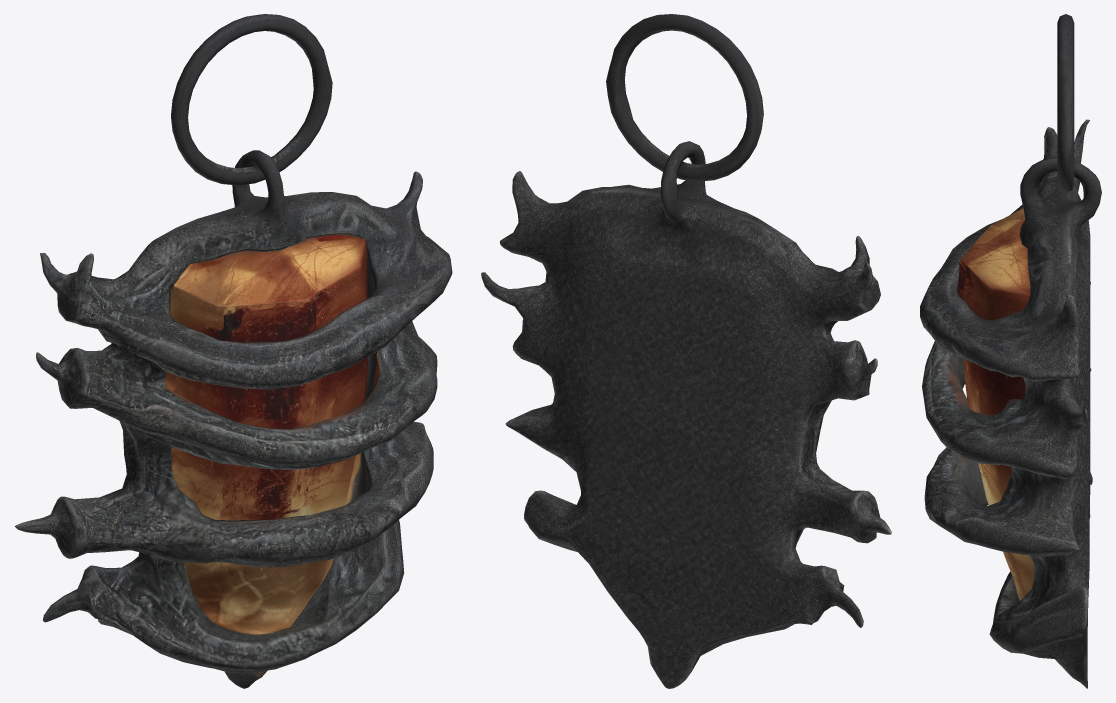
Rendered from amber_amulet.glb.
The picture shows the model from 3 angles, left to right: view 1: azimuth 30°, elevation 25°; view 2: azimuth 150°, elevation 25°; view 3: azimuth 270°, elevation 25°; orthographic projection. The views are drawn at different scales.
Visible parts, largest first — view 1: Soulbound_Amber_Amulet; view 2: Soulbound_Amber_Amulet; view 3: Soulbound_Amber_Amulet.
Part boxes in pixels (x1,y1,x2,y2): Soulbound_Amber_Amulet: [15, 14, 452, 688]; Soulbound_Amber_Amulet: [481, 14, 891, 688]; Soulbound_Amber_Amulet: [920, 14, 1101, 688].
Size of the model in its own units: 0.6152 by 0.9502 by 0.2363.
1 material, 1 textured.
